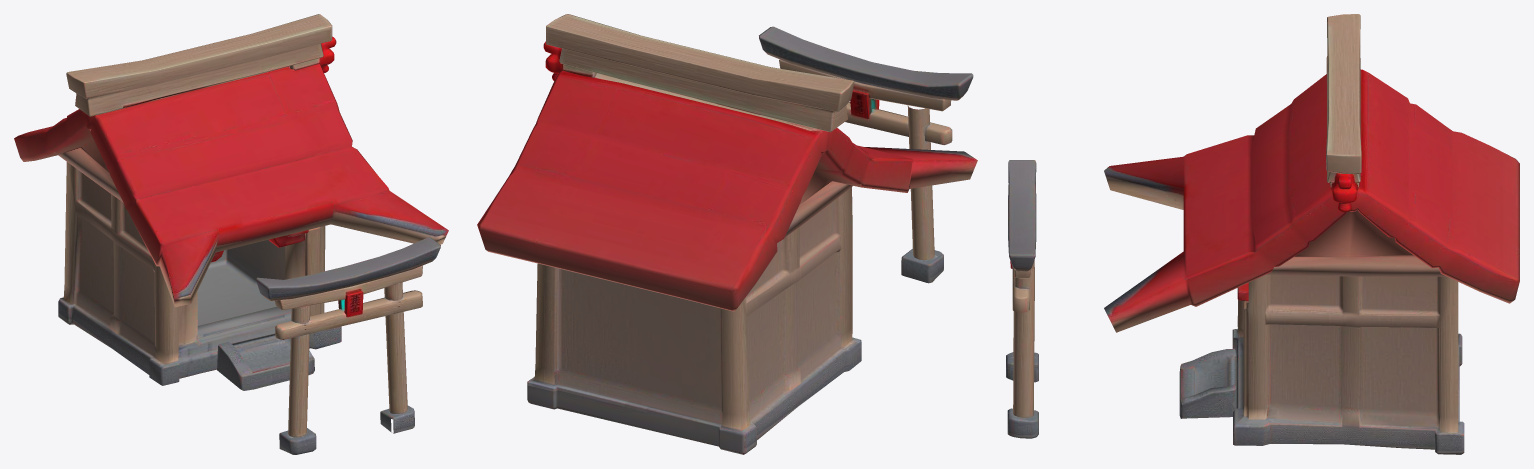
The model's file is shrine.glb.
3 views of the same model, side by side, from view 1: azimuth 30°, elevation 25°; view 2: azimuth 150°, elevation 25°; view 3: azimuth 270°, elevation 25° (orthographic). The views are drawn at different scales.
Parts seen in each view (by area): view 1: prop-shrine.glb; view 2: prop-shrine.glb; view 3: prop-shrine.glb.
Part boxes in pixels (box(x1,y1,x2,y2)): prop-shrine.glb: box(14, 14, 448, 454); prop-shrine.glb: box(477, 14, 977, 454); prop-shrine.glb: box(1006, 14, 1519, 454).
Size of the model in its own units: 0.686 by 0.689 by 0.9995.
1 material, 1 textured.
